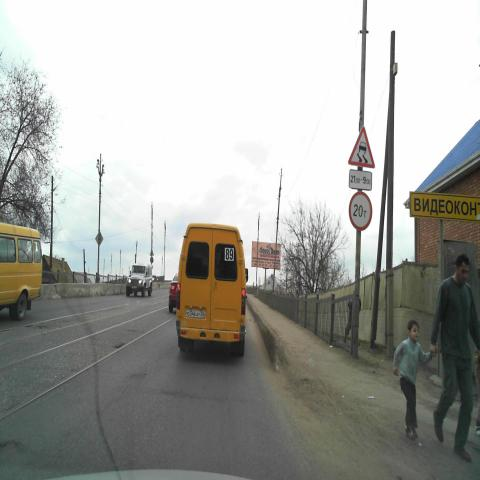1_15: (348, 126, 375, 166)
3_11: (348, 192, 373, 231)
8_5_4: (348, 168, 373, 191)
